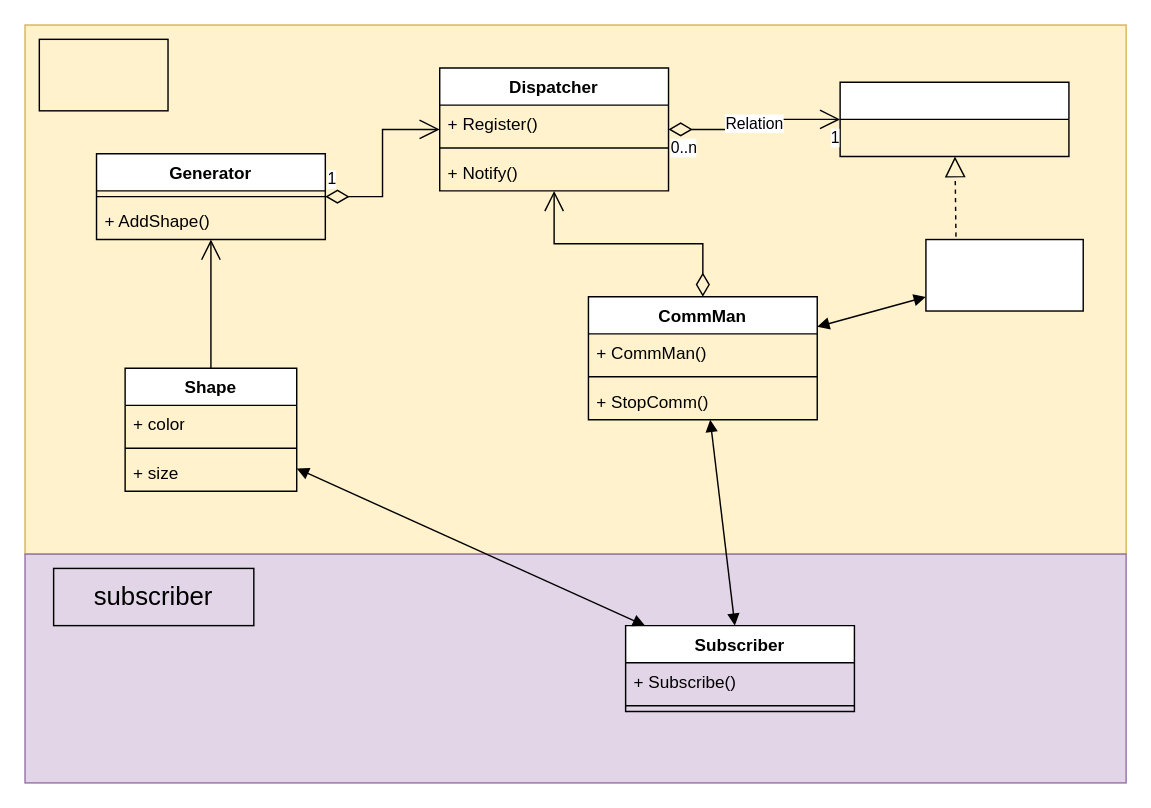
This 1151x808 diagram has some shape labels left out. Here are the shapes that lost their labels. From the top down, the centre of each, then its label:
point 103,74: publisher
point 954,119: UDPconnector
point 1003,274: «interface» Isub
